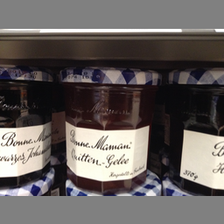jam: (59, 64, 161, 193), (165, 69, 222, 195), (1, 63, 54, 187)
